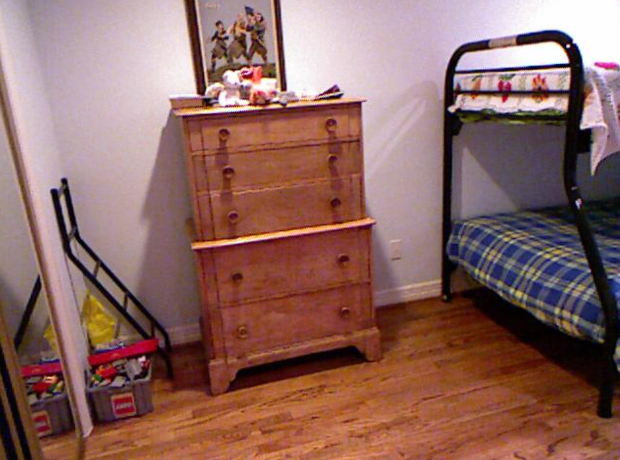cabinet: (170, 95, 383, 361)
cabinetDoor: (228, 298, 354, 340), (226, 247, 353, 285), (219, 196, 346, 223), (219, 152, 346, 179), (214, 118, 341, 144)
